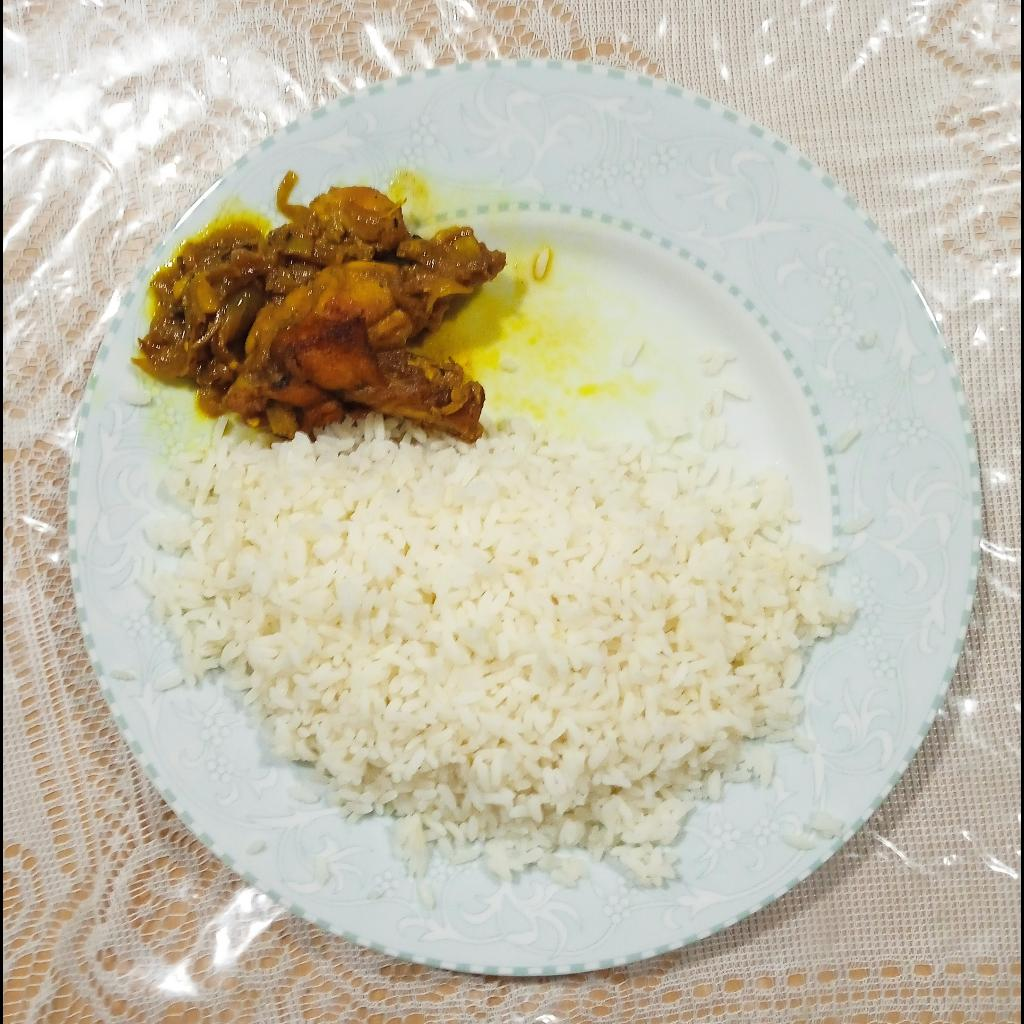chicken: (133, 184, 511, 446)
rice: (136, 413, 854, 890)
